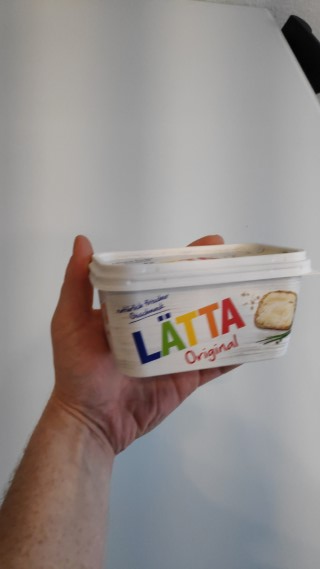laetta: (88, 241, 320, 380)
